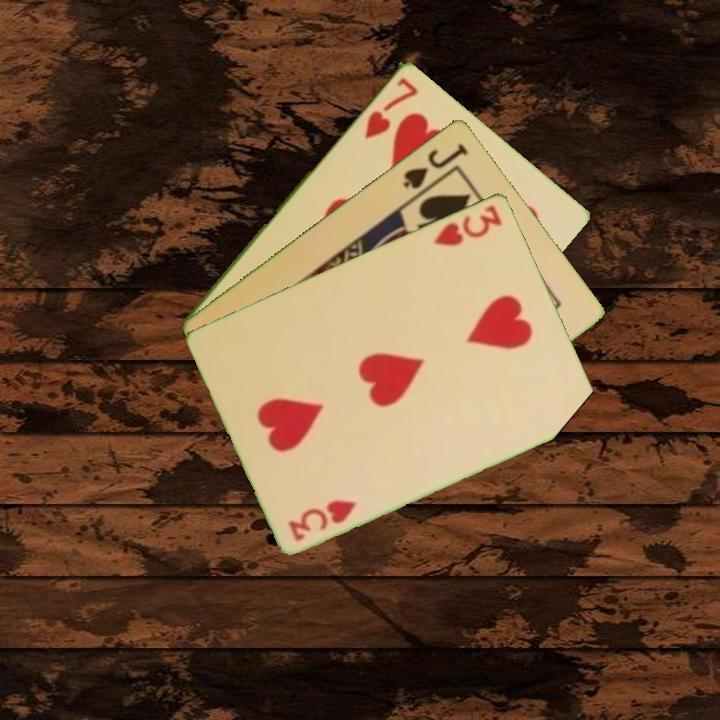3h: (430, 201, 505, 249), (285, 495, 359, 543)
7h: (361, 73, 421, 141)
Js: (399, 139, 471, 192)
